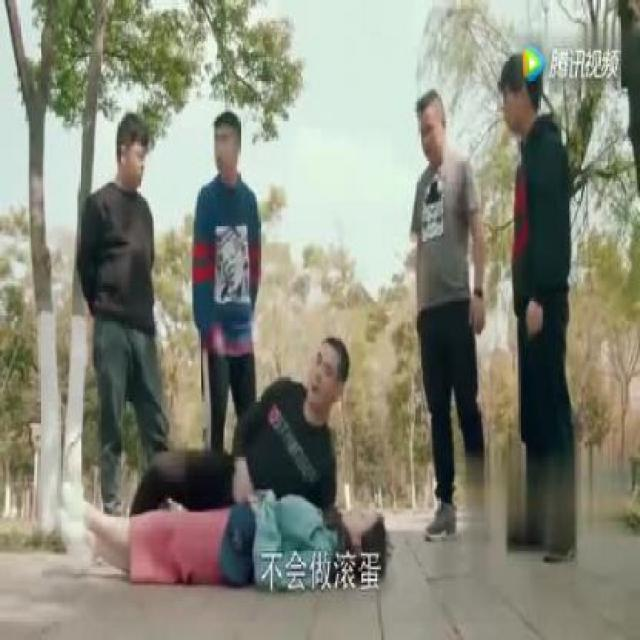fall: (68, 466, 387, 589)
